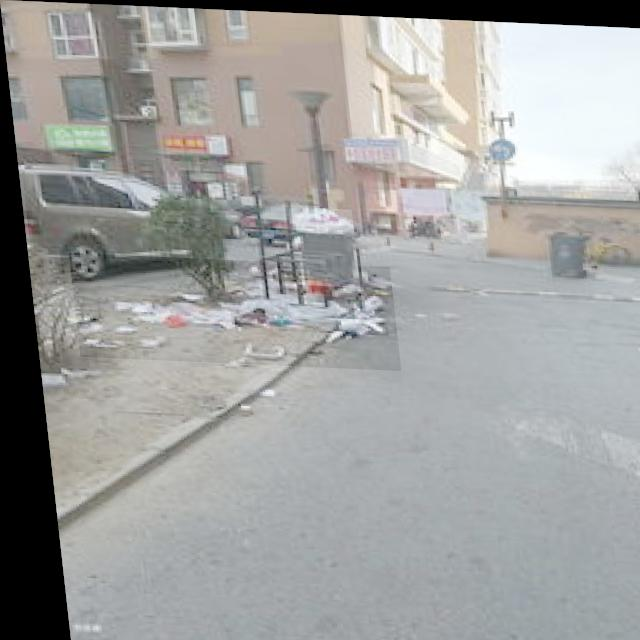garbage: (63, 253, 393, 368)
overflow: (284, 205, 354, 285)
